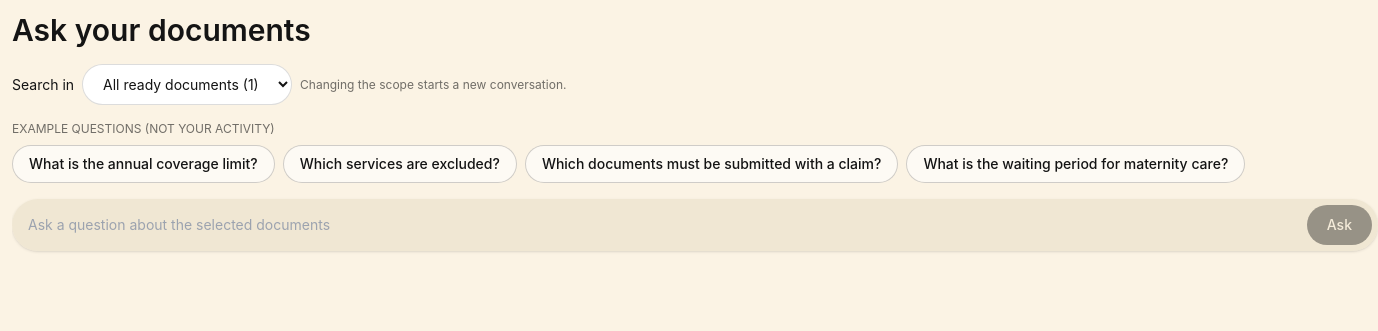
Scenario: Chat › shows the abstention message without citations
Type "Acupuncture?" into the field named "Your question" at point(663, 225), box [28,205,1299,245]
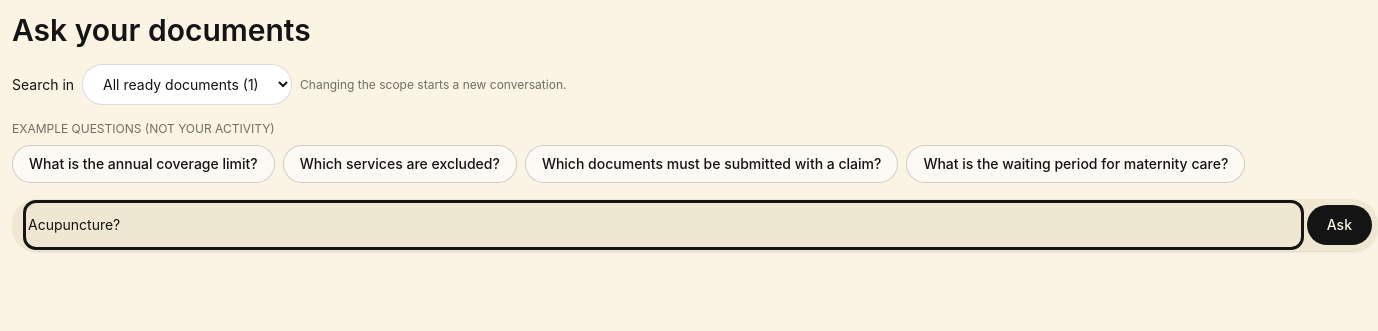
Click the button "Ask" at point(1339, 225), box [1307,205,1372,245]
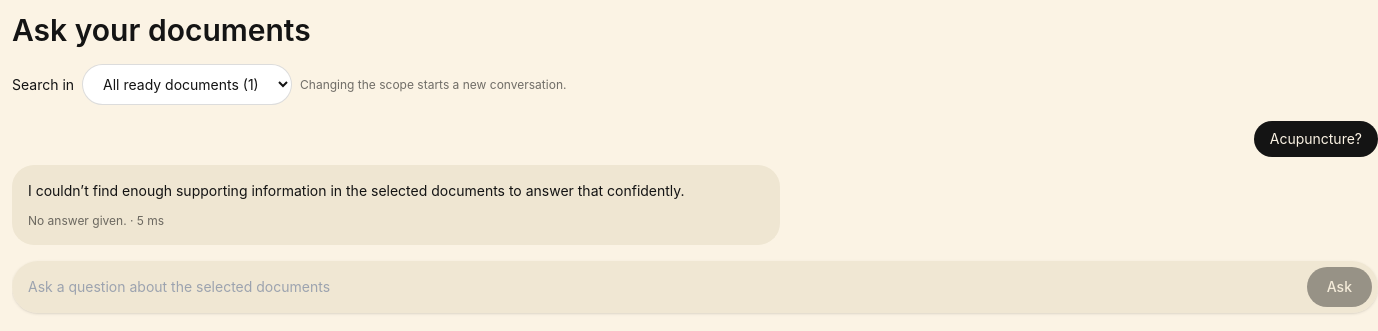
Expected: the text "couldn’t find enough supporting information" is shown, [28,182,685,199]
